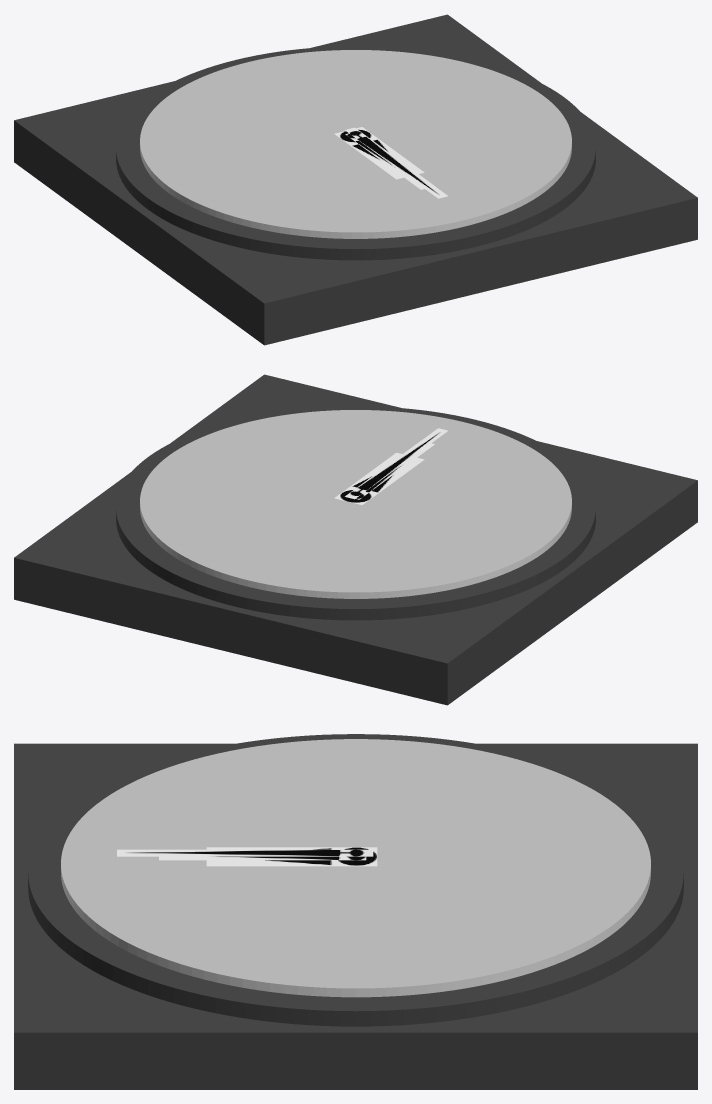
File: clock.fbx
3 renders of one model, top to bottom at view 1: azimuth 30°, elevation 25°; view 2: azimuth 150°, elevation 25°; view 3: azimuth 270°, elevation 25°, orthographic. The views are drawn at different scales.
Visible parts, largest first — view 1: Clock, sechand, hourhand; view 2: Clock, hourhand, sechand; view 3: Clock, sechand, hourhand, minhand.
Boxes of the visible parts, bbox=[...] form: Clock: bbox=[14, 14, 697, 345]; sechand: bbox=[345, 127, 447, 198]; hourhand: bbox=[334, 127, 424, 179]; Clock: bbox=[14, 374, 697, 705]; hourhand: bbox=[334, 452, 424, 504]; sechand: bbox=[345, 428, 447, 499]; Clock: bbox=[14, 734, 697, 1089]; sechand: bbox=[117, 849, 373, 856]; hourhand: bbox=[206, 847, 377, 866]; minhand: bbox=[159, 856, 366, 860].
Bounding box in the file's own units: 232 × 34.48 × 232.
